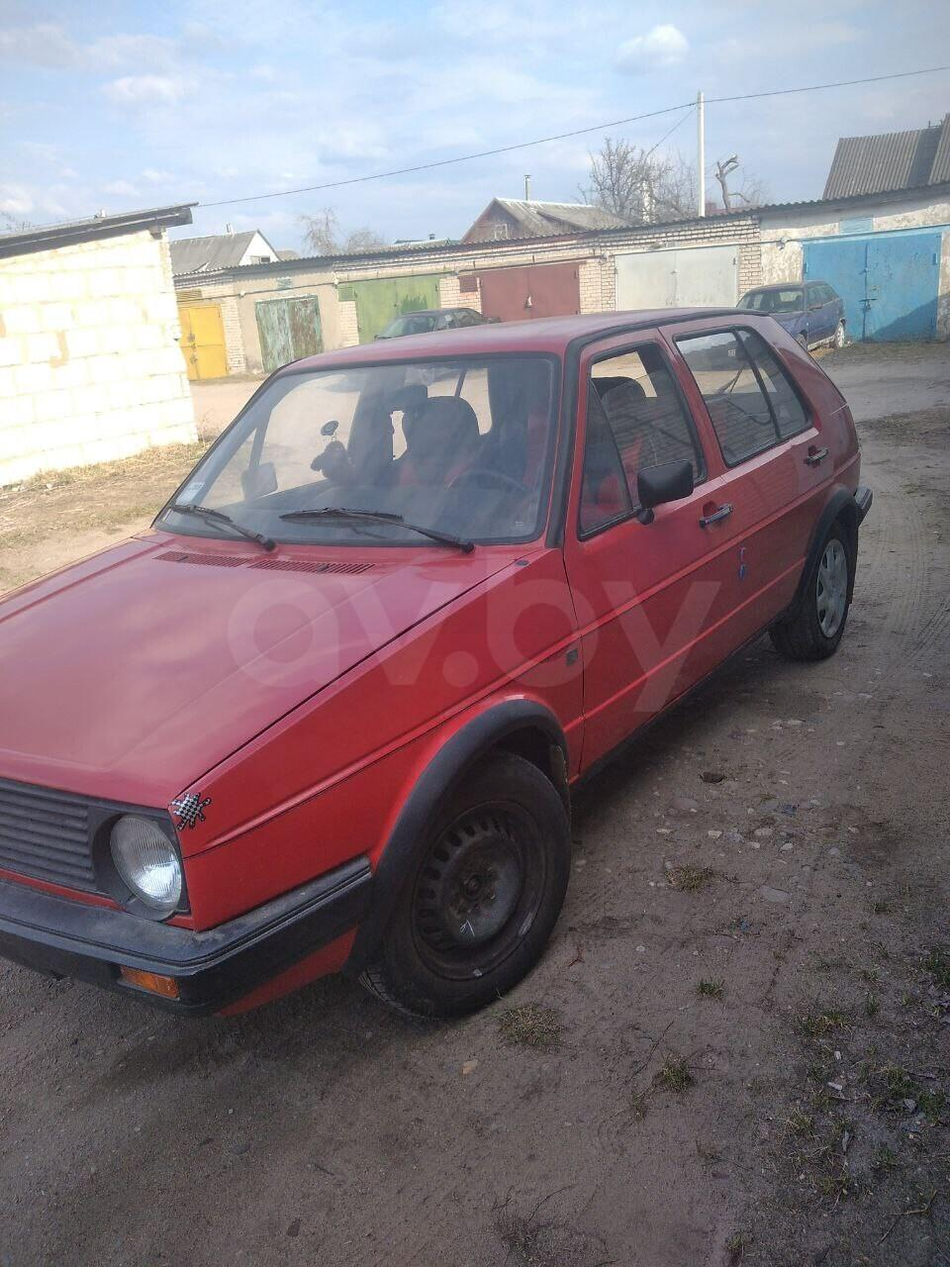Golf_1991-2000: (15, 300, 879, 1017)
